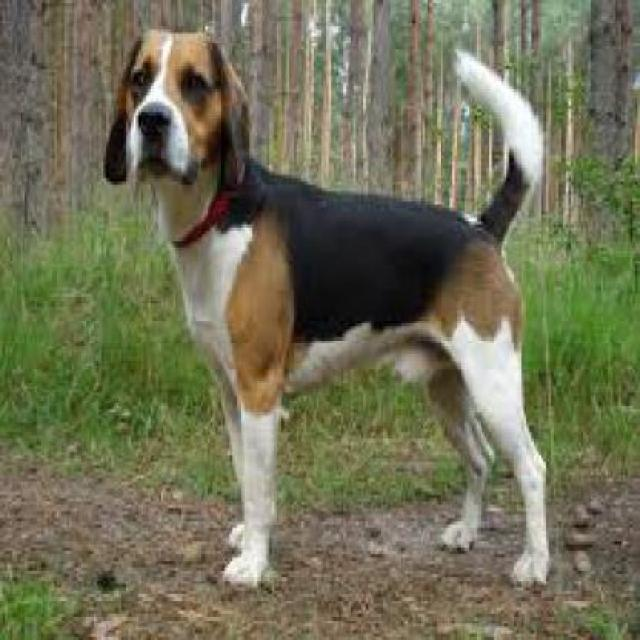Dog: (100, 19, 555, 602)
